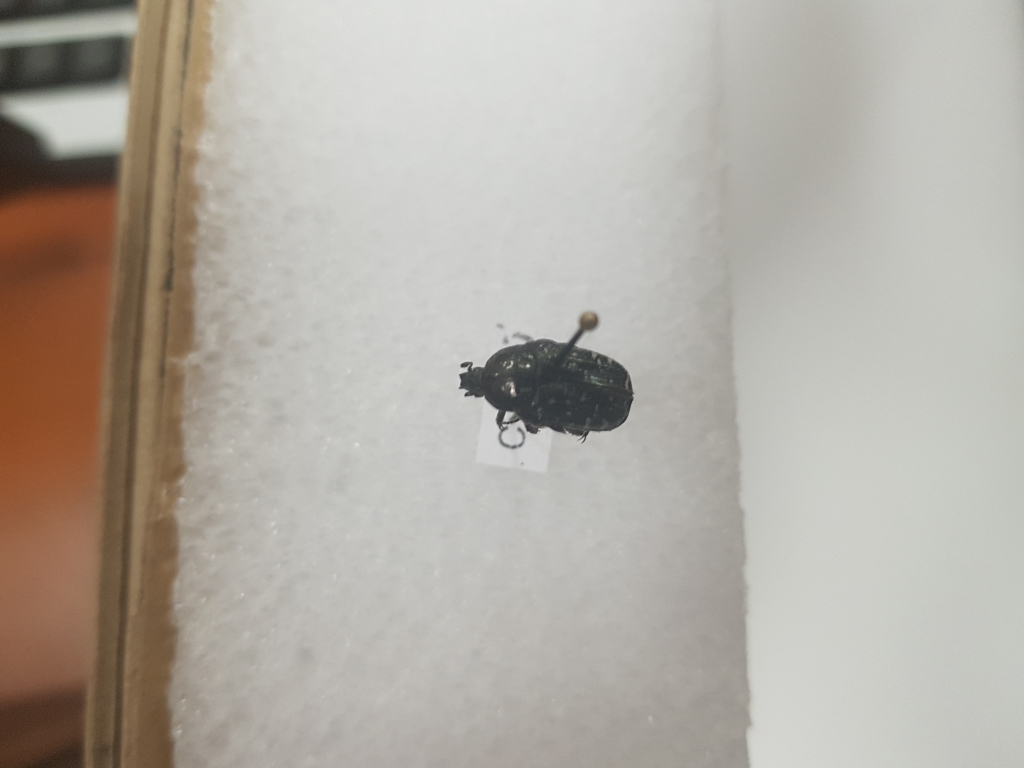Oxythyrea_albopicta: (451, 325, 638, 448)
